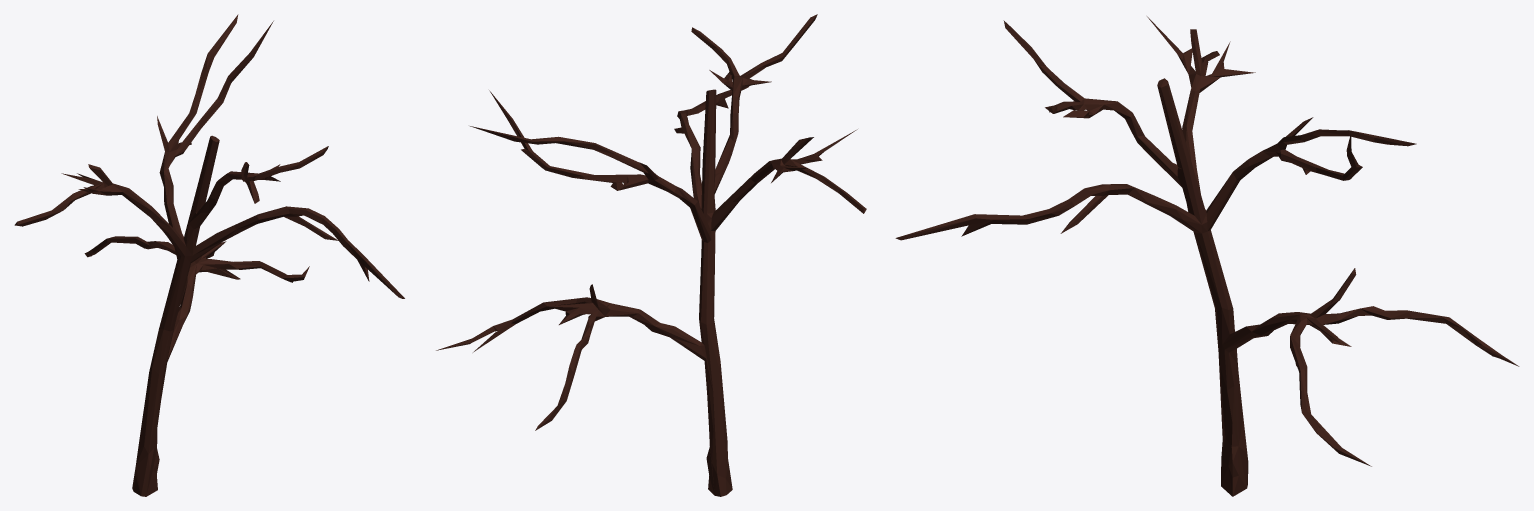
Rendered from dead_tree_b.FBX.
3 renders of one model, left to right at view 1: azimuth 30°, elevation 25°; view 2: azimuth 150°, elevation 25°; view 3: azimuth 270°, elevation 25°, orthographic. The views are drawn at different scales.
Parts seen in each view (by area): view 1: dead_tree_b; view 2: dead_tree_b; view 3: dead_tree_b.
Boxes of the visible parts, x1=… form: dead_tree_b: x1=14, y1=14, x2=404, y2=496; dead_tree_b: x1=436, y1=14, x2=866, y2=496; dead_tree_b: x1=895, y1=16, x2=1519, y2=496.
Bounding box in the file's own units: 747 × 795 × 957.
